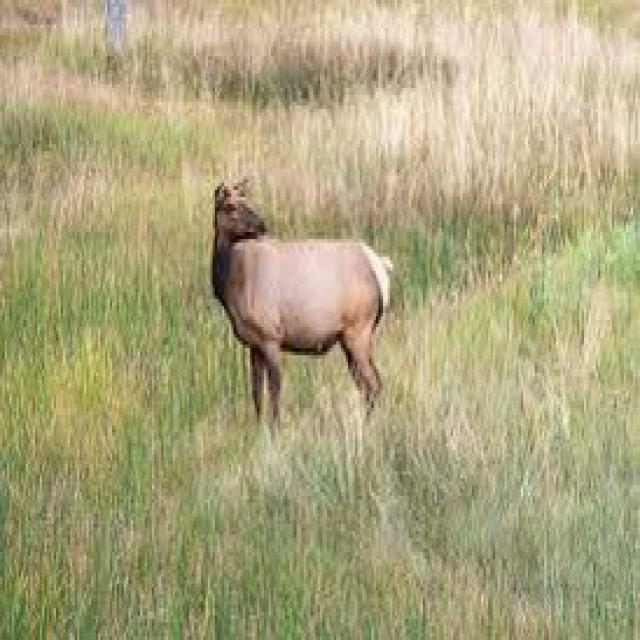elk: (185, 127, 418, 459)
